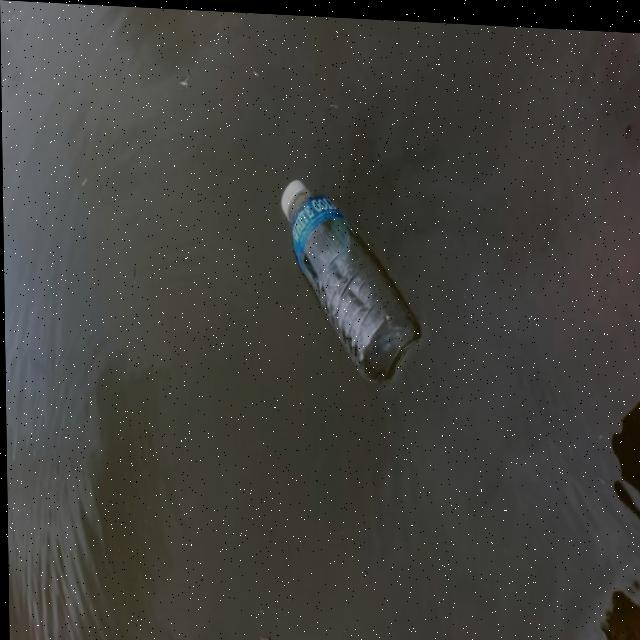waterbottle: (274, 170, 424, 387)
